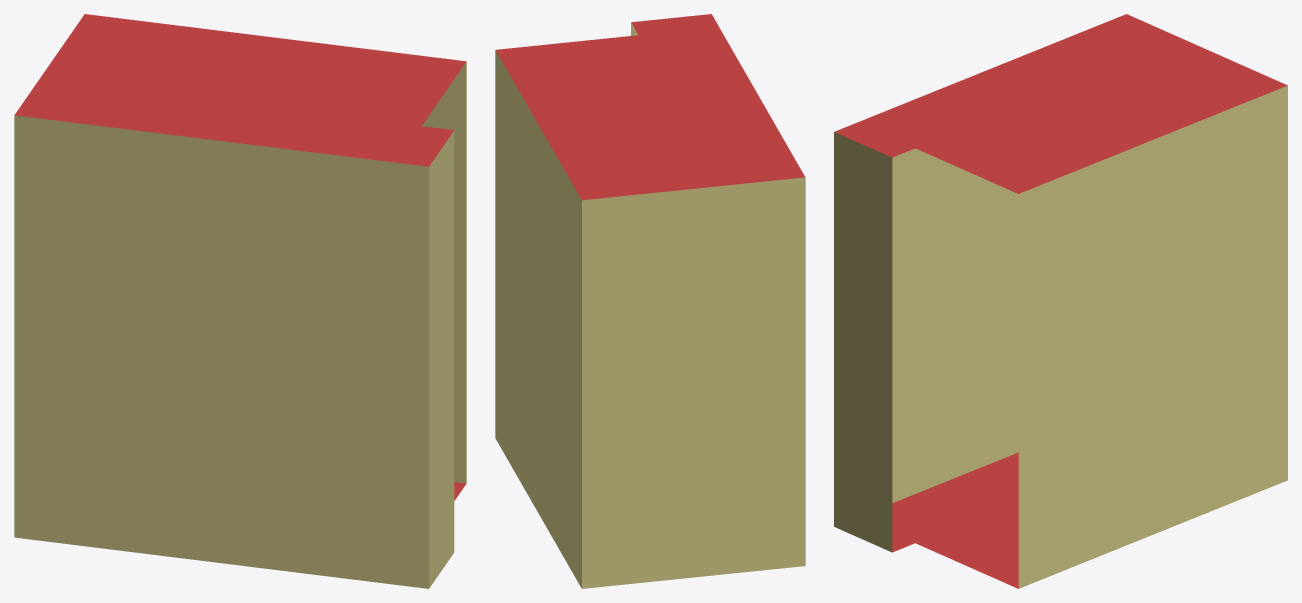
3 renders of one model, left to right at view 1: azimuth 30°, elevation 25°; view 2: azimuth 150°, elevation 25°; view 3: azimuth 270°, elevation 25°, orthographic. The views are drawn at different scales.
Parts seen in each view (by area): view 1: group_4, group_3; view 2: group_4, group_3; view 3: group_4, group_3, group_5.
Boxes of the visible parts, left/top/right/bottom form: group_4: left=14, top=62, right=466, bottom=588; group_3: left=14, top=14, right=466, bottom=166; group_4: left=495, top=22, right=805, bottom=588; group_3: left=496, top=14, right=804, bottom=200; group_4: left=834, top=85, right=1287, bottom=588; group_3: left=834, top=14, right=1287, bottom=193; group_5: left=892, top=452, right=1018, bottom=588.
Size of the model in its own units: 7.54 by 8.03 by 7.71.
